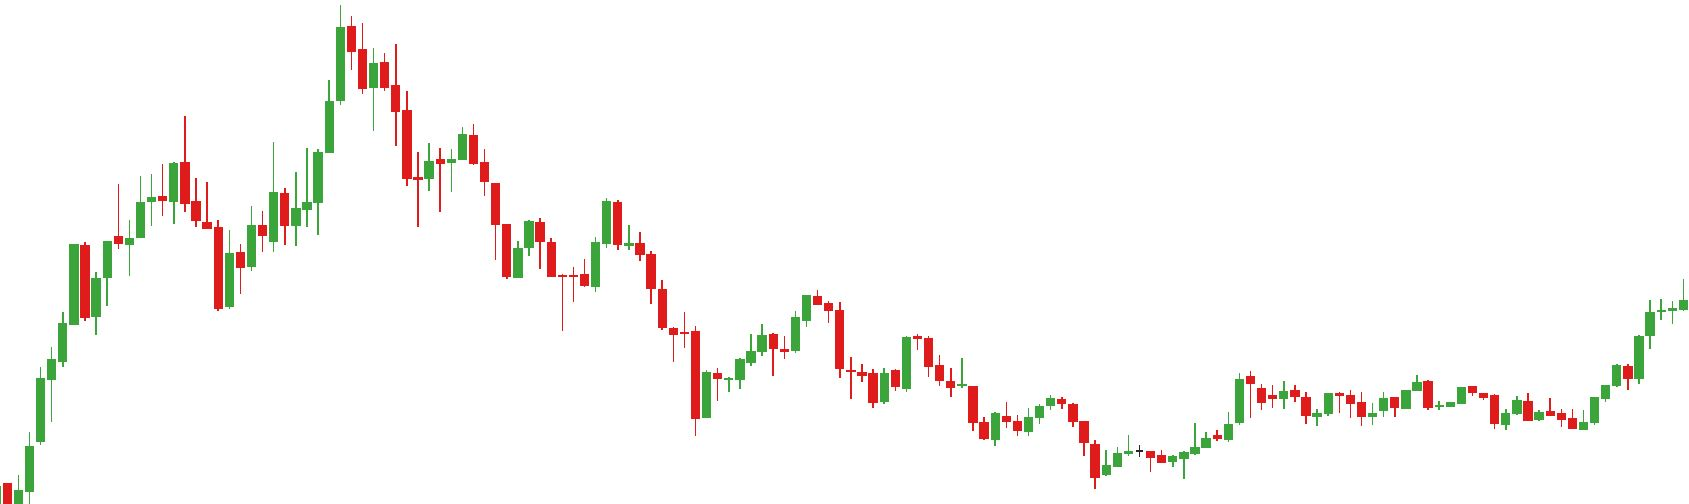buy: (126, 170, 236, 320)
sell: (524, 199, 625, 269)
